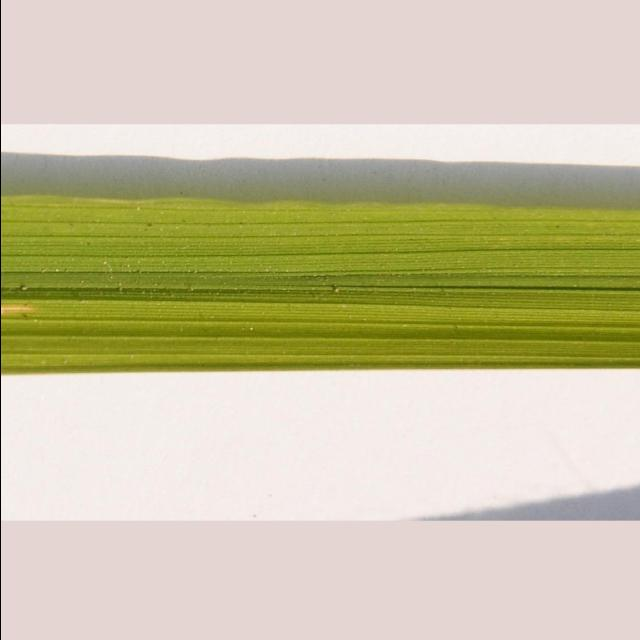Bacterial leaf blight: (0, 284, 43, 319)
